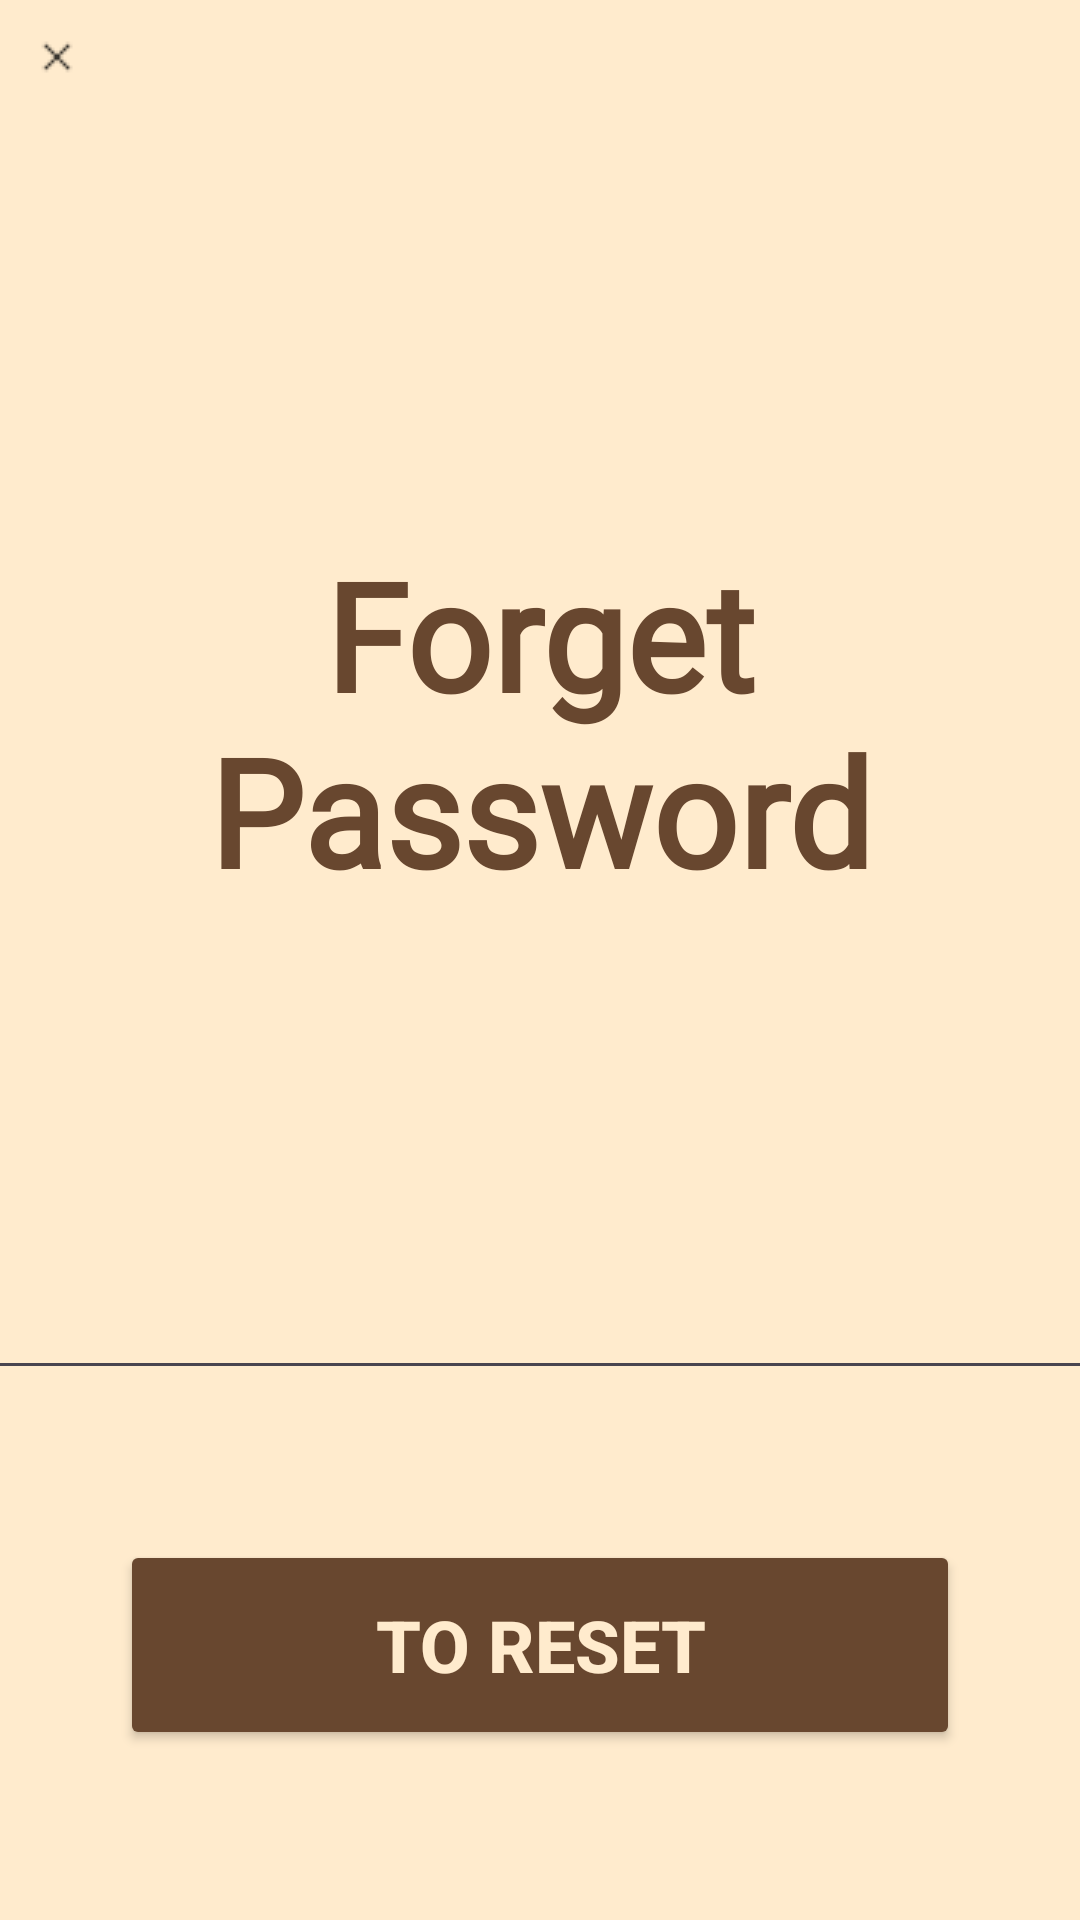

Where icons sit on this 1080 × 1920 app screen, as (x1, y1, x2, y2):
iconx: (43, 43, 71, 71)
